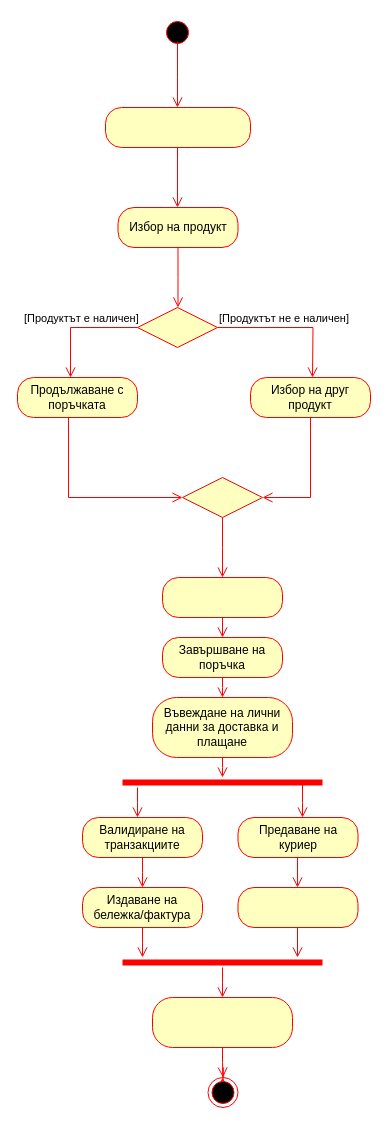
Some shapes in this 388 by 1125 pixel diagram are drawn without their labels. The shapes that lost their labels are listed below. From the top down, each one's centre as x and y in pixels, then its label:
At point (177, 127): "Преглед на каталог с продукти".
At point (222, 597): "Добавяне в количката".
At point (297, 907): "Доставка".
At point (222, 1022): "Маркиране на поръчката като приключена".
